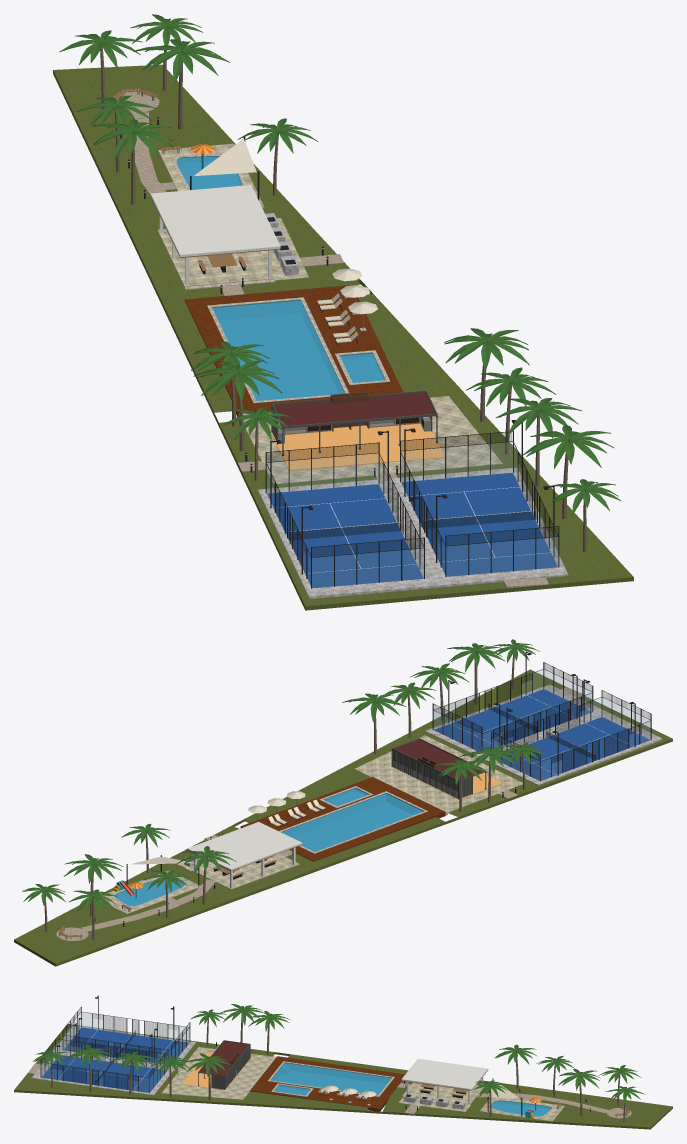
The model's file is casa_club_tlm_atardecer.glb.
The picture shows the model from 3 angles, top to bottom: view 1: azimuth 30°, elevation 25°; view 2: azimuth 150°, elevation 25°; view 3: azimuth 270°, elevation 25°; orthographic projection. The views are drawn at different scales.
Visible parts, largest first — view 1: casa.club; view 2: casa.club; view 3: casa.club.
Part boxes in pixels (x1,y1,x2,y2): casa.club: (53, 14, 633, 610); casa.club: (14, 639, 672, 966); casa.club: (14, 995, 672, 1129).
Bounding box in the file's own units: 45.93 × 9.49 × 116.
Materials: 37 (14 with a texture image).
